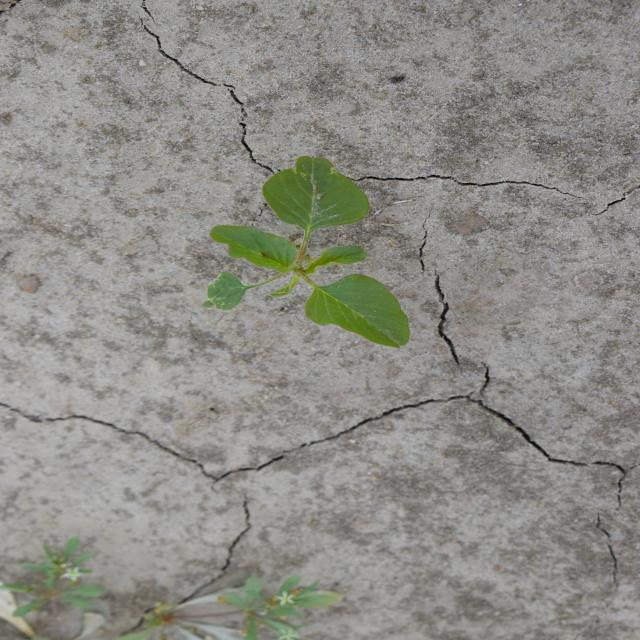Carpetweed: (3, 537, 347, 639)
PalmerAmaranth: (199, 153, 414, 350)
